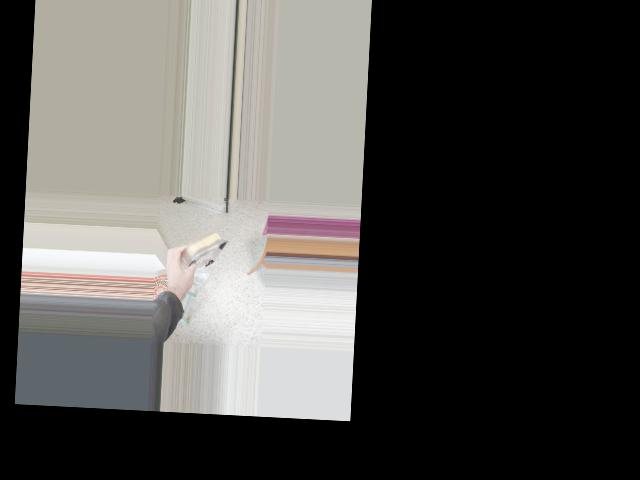cheese: (158, 220, 237, 284)
